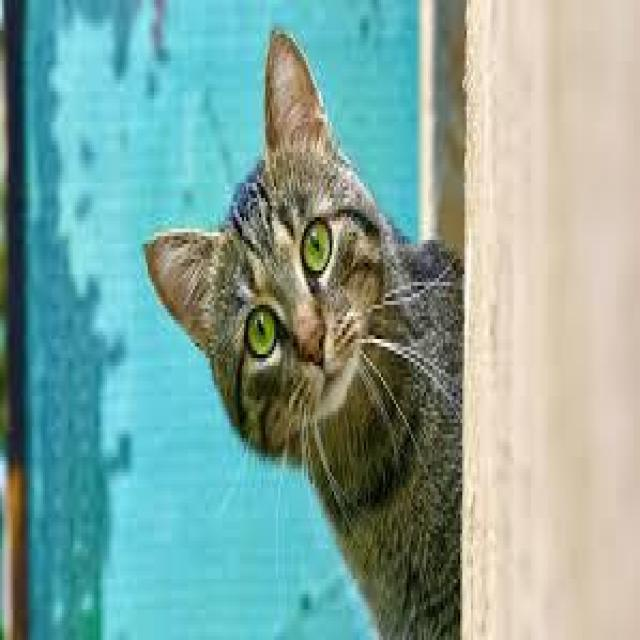Cat: (138, 24, 397, 472)
